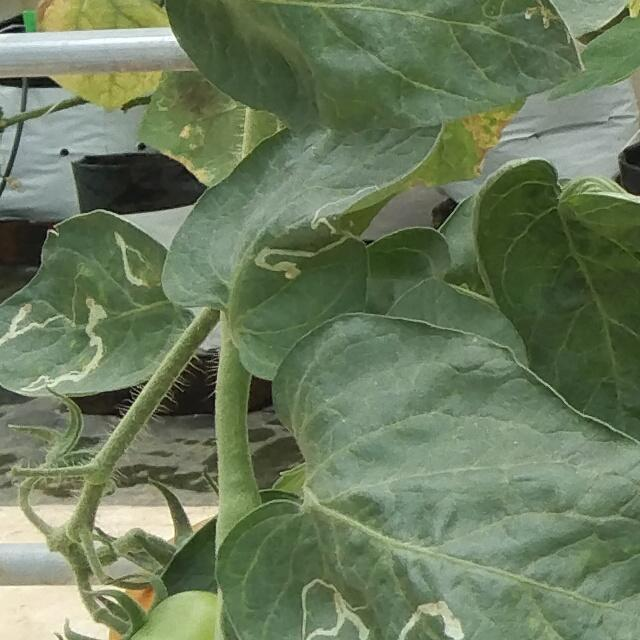Tomato target spot leaf: (214, 300, 640, 640), (162, 116, 446, 385), (164, 0, 595, 129), (0, 202, 194, 404)
